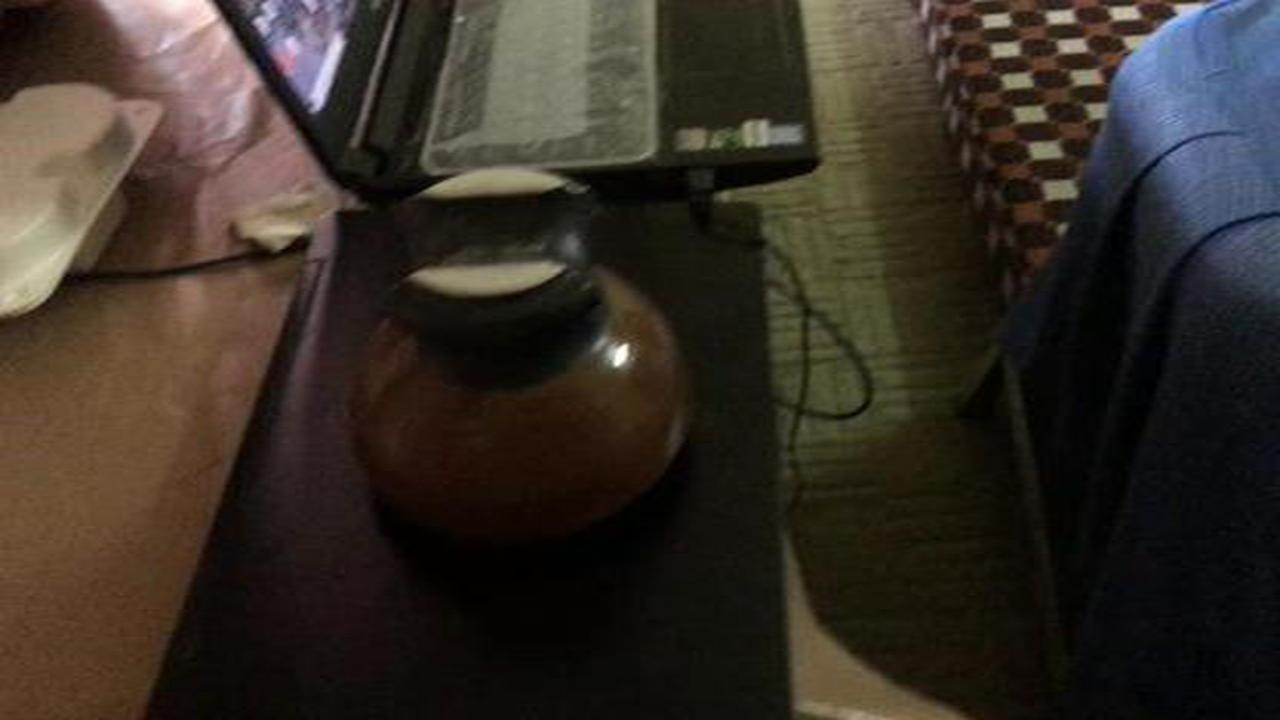insulator_pin: (321, 155, 724, 572)
